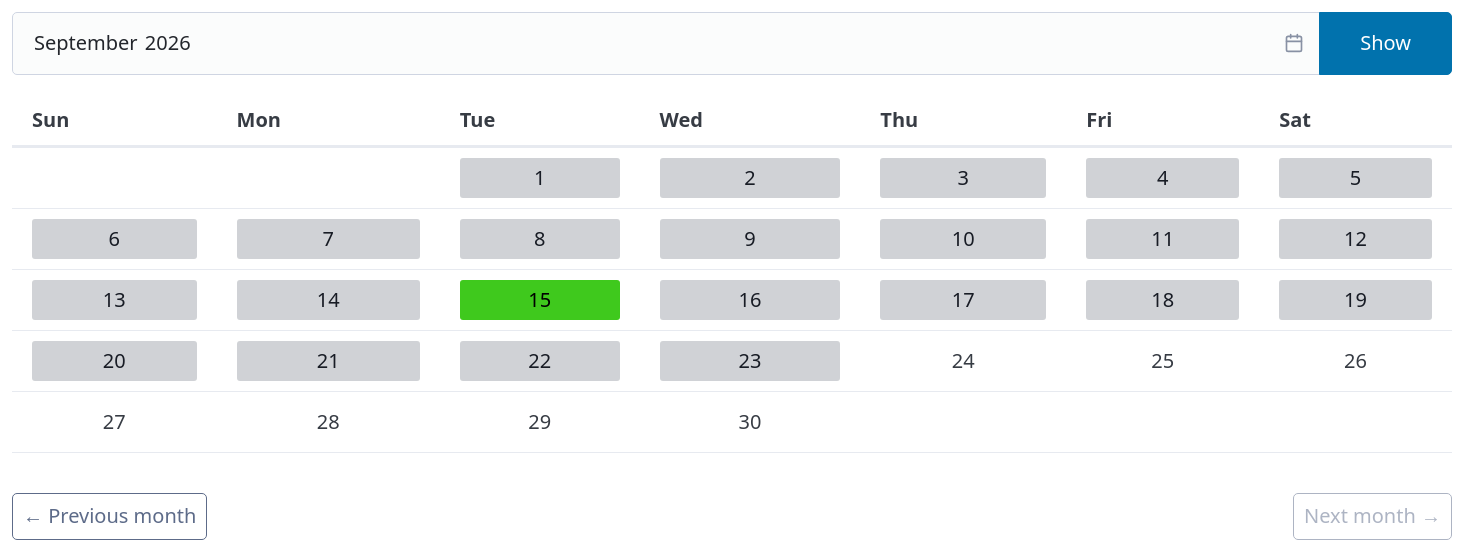
Test: MonthCalendar › starts the month on its weekday
Replace the text in the field named "Month" with "2026-04". click: coordinates (666, 43)
box: [12, 12, 1320, 74]
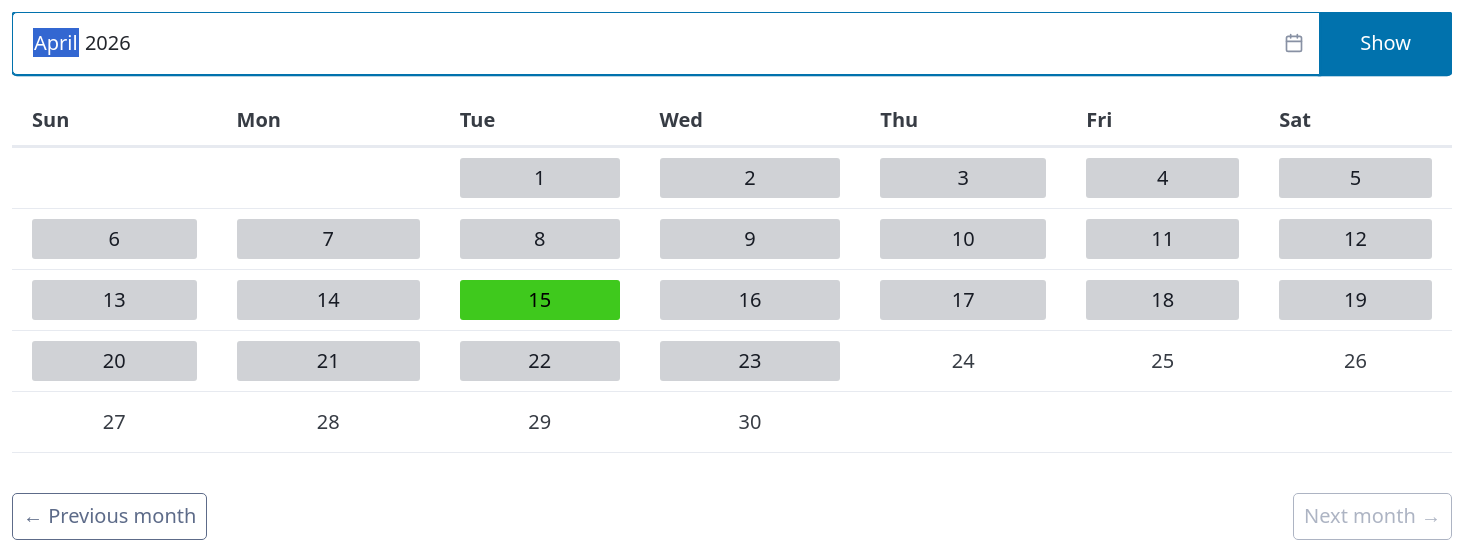
Click the button "Show". click: coordinates (1386, 43)
box: [1319, 12, 1452, 74]
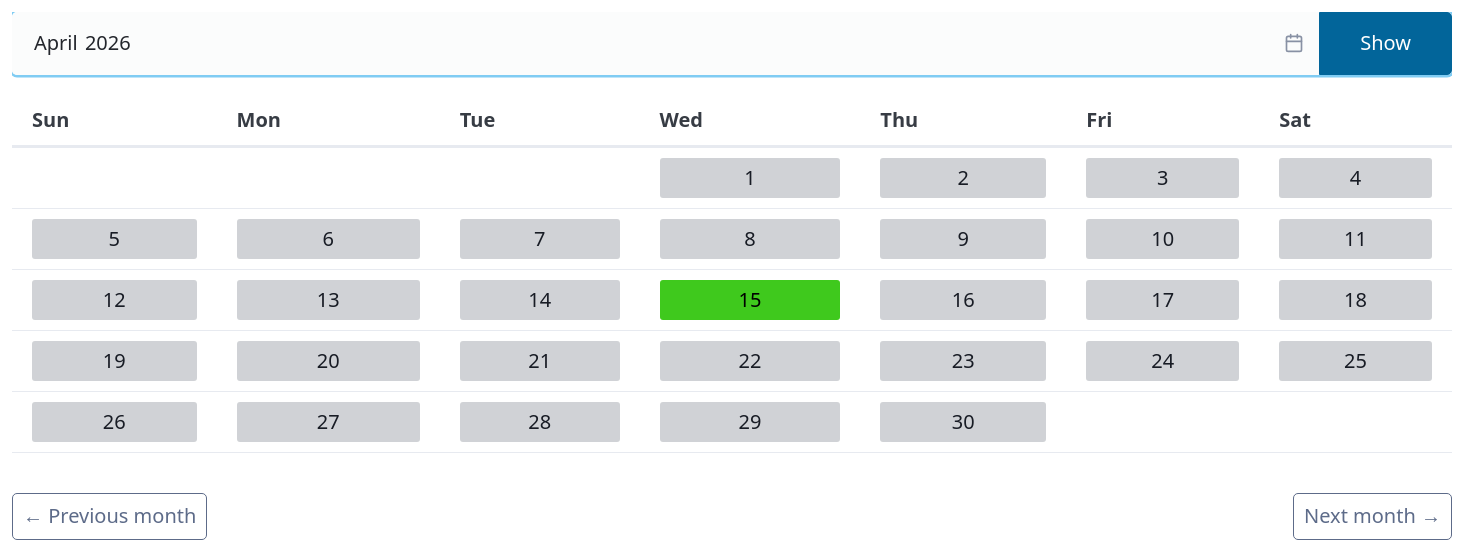
Now the cell "1" is shown, box [640, 146, 860, 208]
